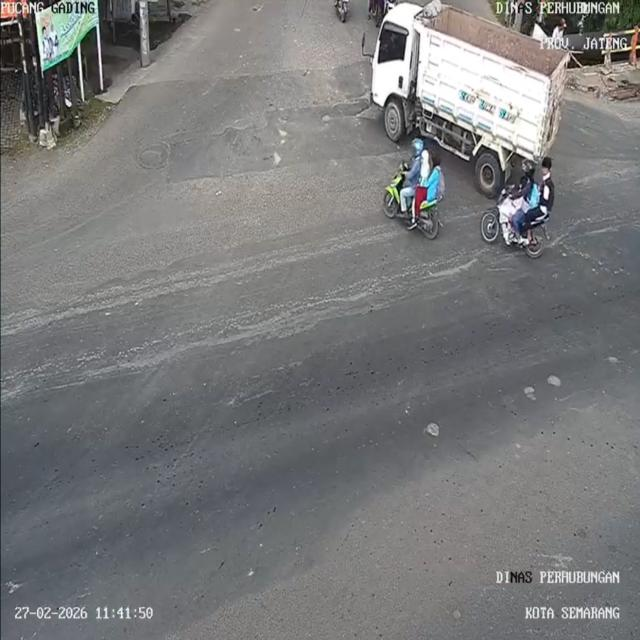motorcycle: (477, 184, 553, 258), (380, 167, 445, 242)
person: (400, 138, 422, 213), (518, 155, 540, 214), (536, 157, 557, 216), (426, 154, 447, 202), (414, 149, 431, 207)
rider_region: (475, 158, 557, 264), (381, 135, 447, 240)
